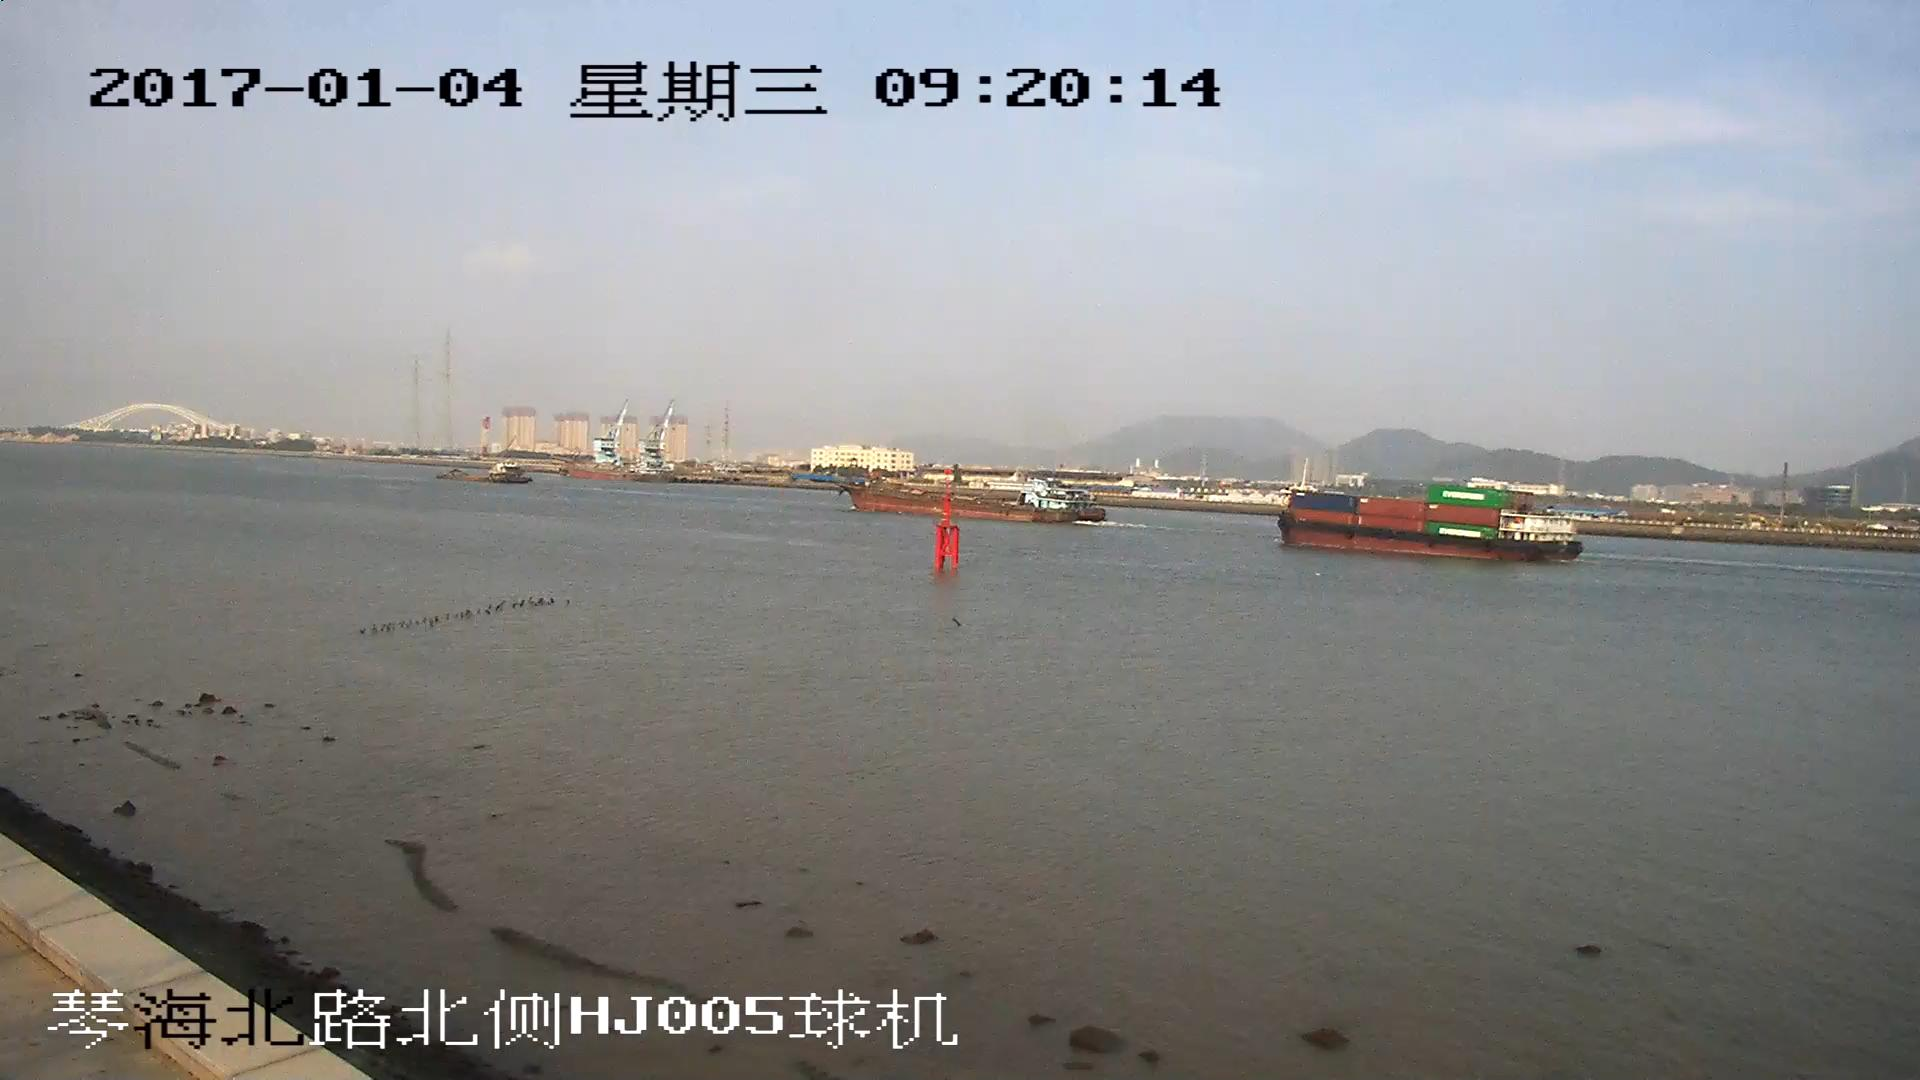bulk cargo carrier: (812, 473, 1109, 521)
container ship: (1275, 489, 1584, 563)
